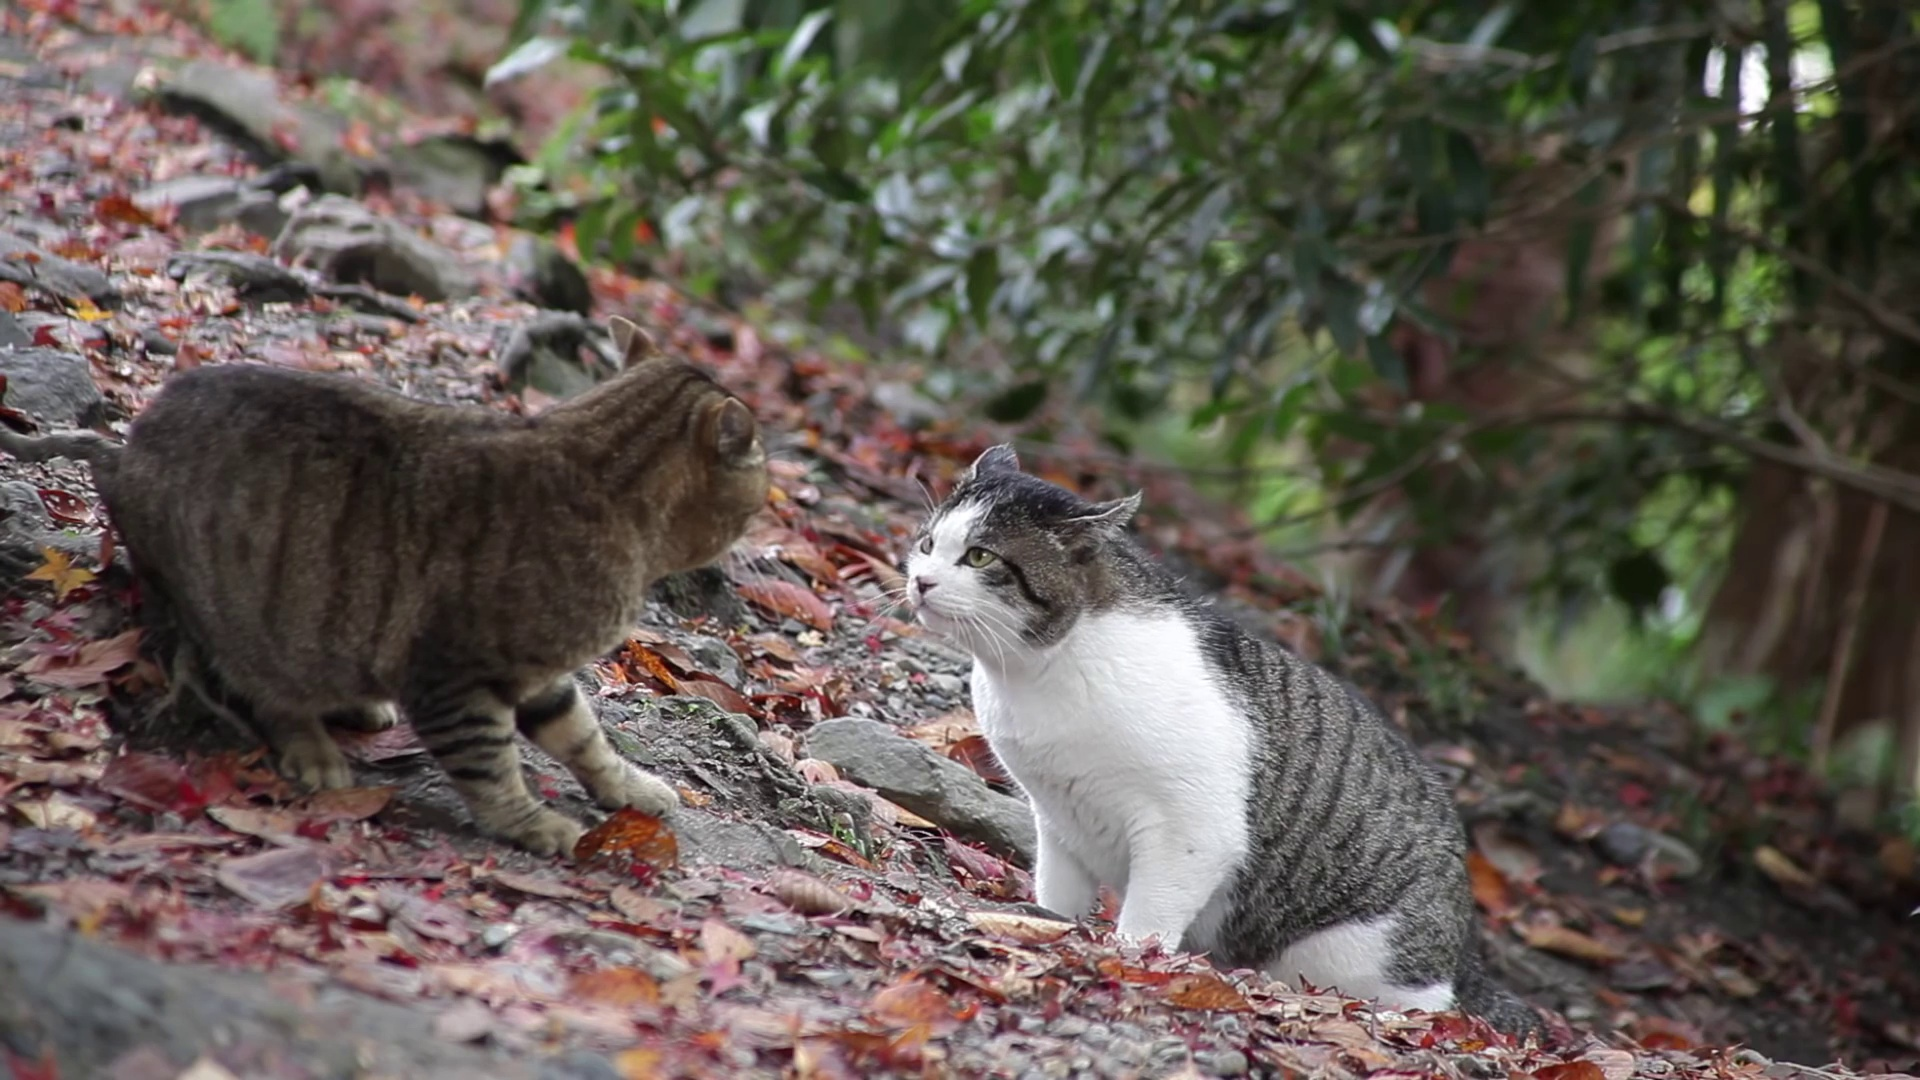black-white: (905, 443, 1469, 1009)
pure black: (119, 315, 767, 855)
